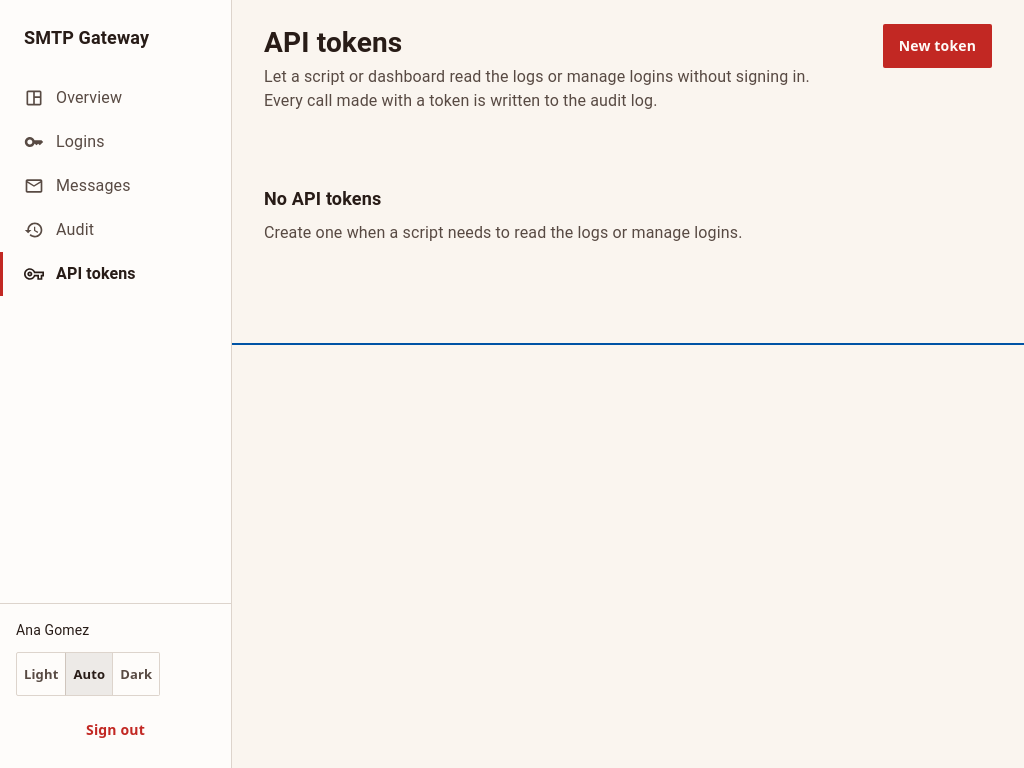
Test: Tokens › creates a token, reveals the secret, and the curl example has no secret
Check: the text "No API tokens" is shown, box [264,188,381,209]
Click the button "New token": point(937, 46) [883,24,992,68]
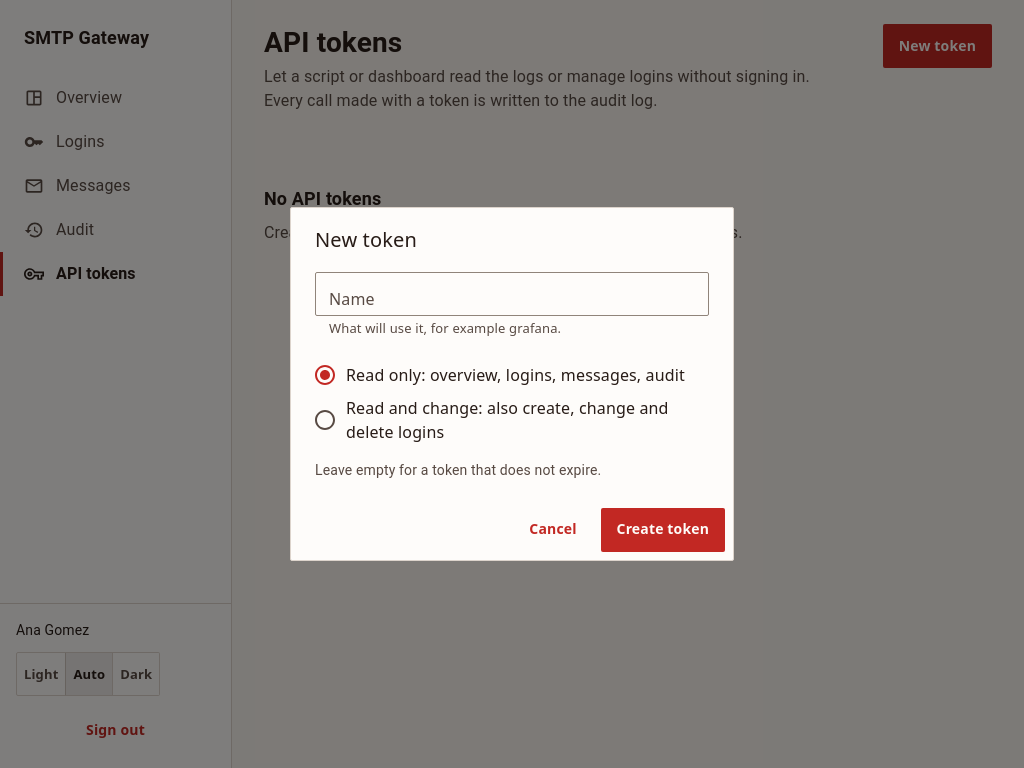
In the field labelled "Name": point(512, 294) [315,278,709,311], type "grafana"
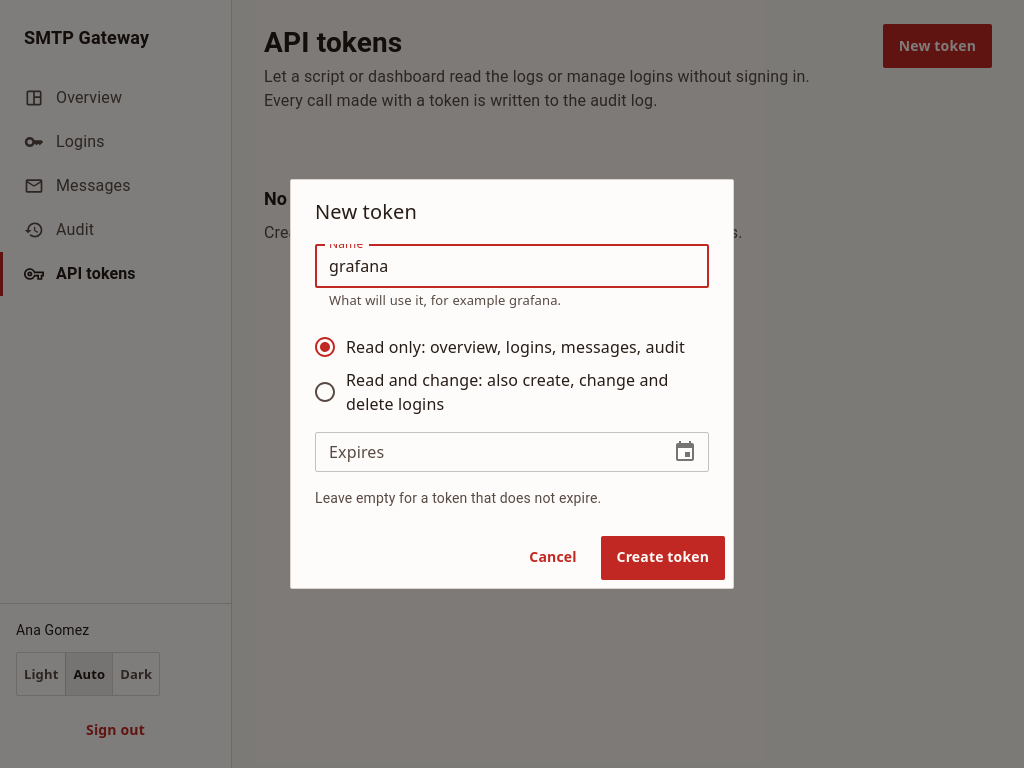
Click the button "Create token": point(663, 558) [601,536,725,580]
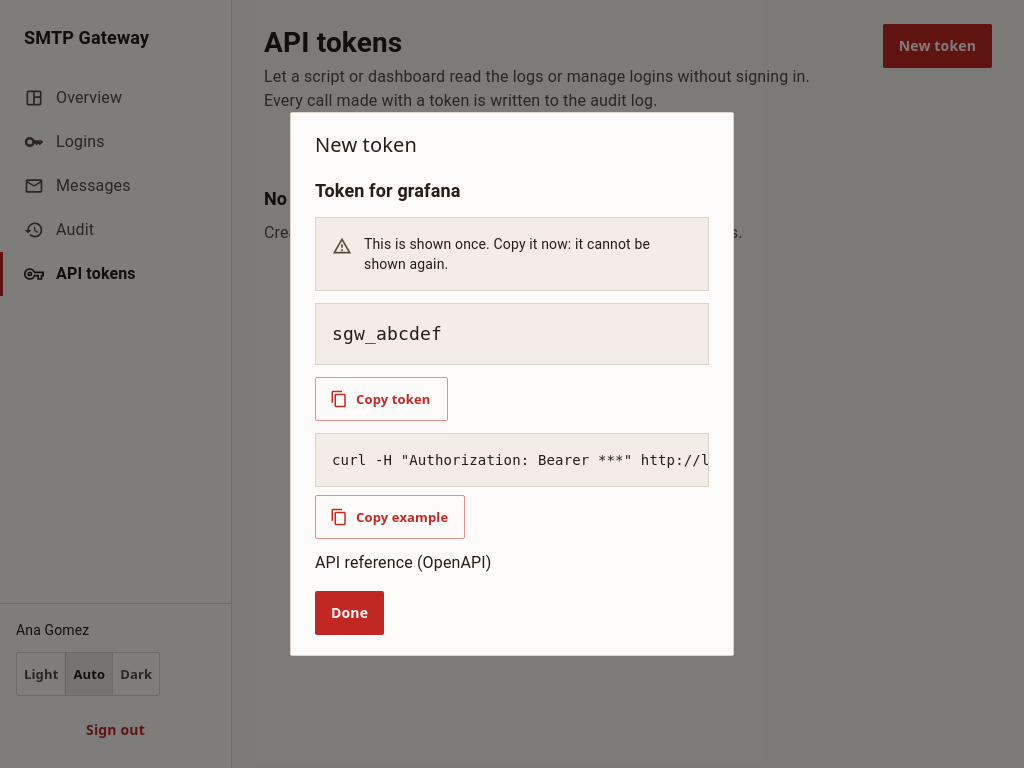
Check: the text "curl -H" does not show "sgw_abcdef"
Check: the text "sgw_abcdef" is shown, box [315,303,709,365]
